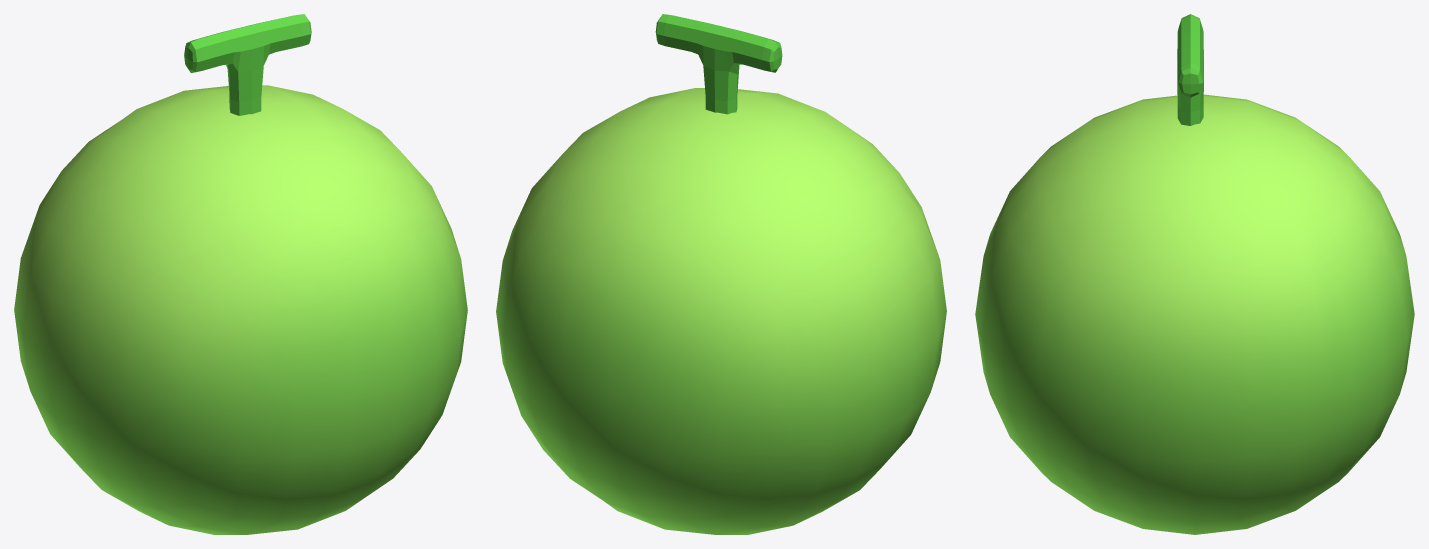
The model's file is melon.fbx.
3 views of the same model, side by side, from view 1: azimuth 30°, elevation 25°; view 2: azimuth 150°, elevation 25°; view 3: azimuth 270°, elevation 25° (orthographic). The views are drawn at different scales.
Visible parts, largest first — view 1: melon, stem; view 2: melon, stem; view 3: melon, stem.
Part boxes in pixels (x1,y1,x2,y2): melon: (14,85,467,534); stem: (184,14,311,115); melon: (496,88,946,534); stem: (655,14,782,114); melon: (975,94,1414,534); stem: (1177,14,1203,125).
Bounding box in the file's own units: 81.89 × 98.01 × 81.89.
